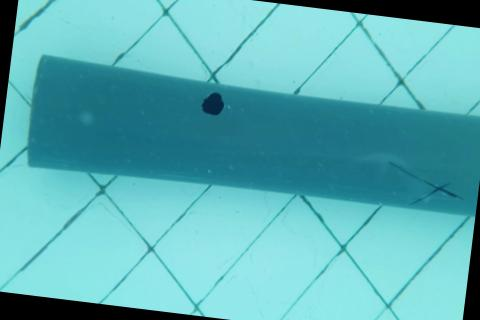kebocoran: (199, 90, 226, 118)
keretakan: (381, 159, 466, 212)
